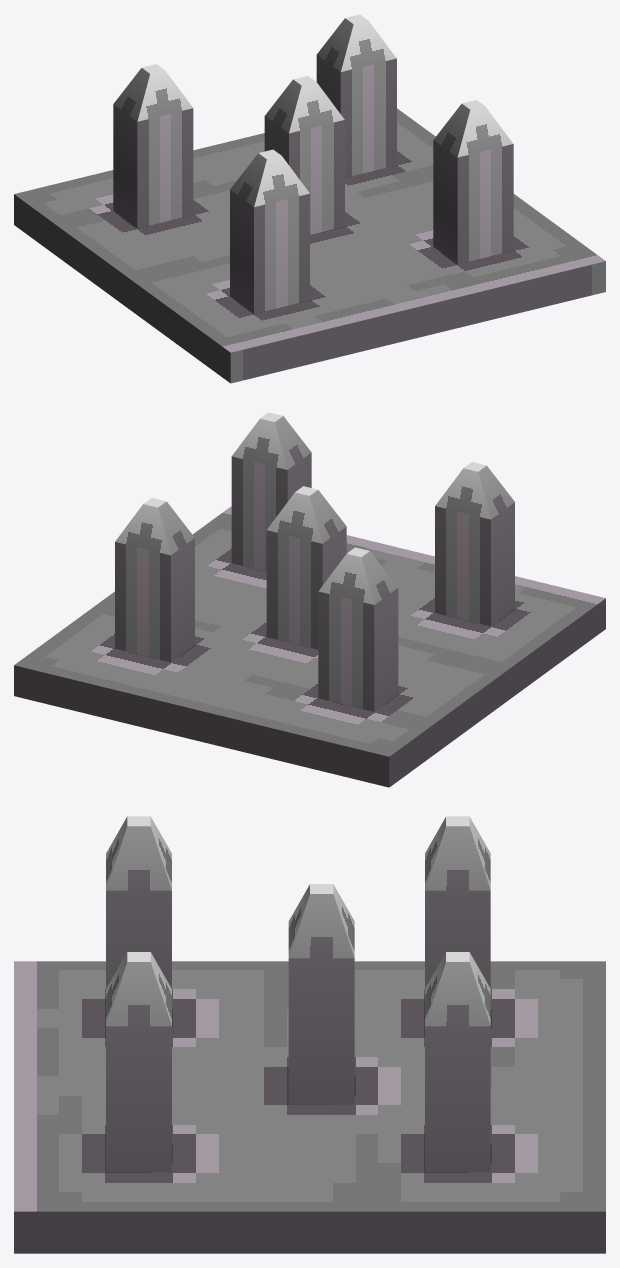
The model's file is trap.glb.
The picture shows the model from 3 angles, top to bottom: view 1: azimuth 30°, elevation 25°; view 2: azimuth 150°, elevation 25°; view 3: azimuth 270°, elevation 25°; orthographic projection. The views are drawn at different scales.
Visible parts, largest first — view 1: trap_01, trap_01.001; view 2: trap_01, trap_01.001; view 3: trap_01, trap_01.001.
Part boxes in pixels (left/top/right/bottom): trap_01: left=14, top=108, right=605, bottom=383; trap_01.001: left=113, top=14, right=513, bottom=313; trap_01: left=14, top=506, right=605, bottom=787; trap_01.001: left=115, top=412, right=514, bottom=711; trap_01: left=14, top=961, right=605, bottom=1253; trap_01.001: left=106, top=816, right=490, bottom=1172.
Bounding box in the file's own units: 1.52 × 0.6771 × 1.52.
1 material, 1 textured.
